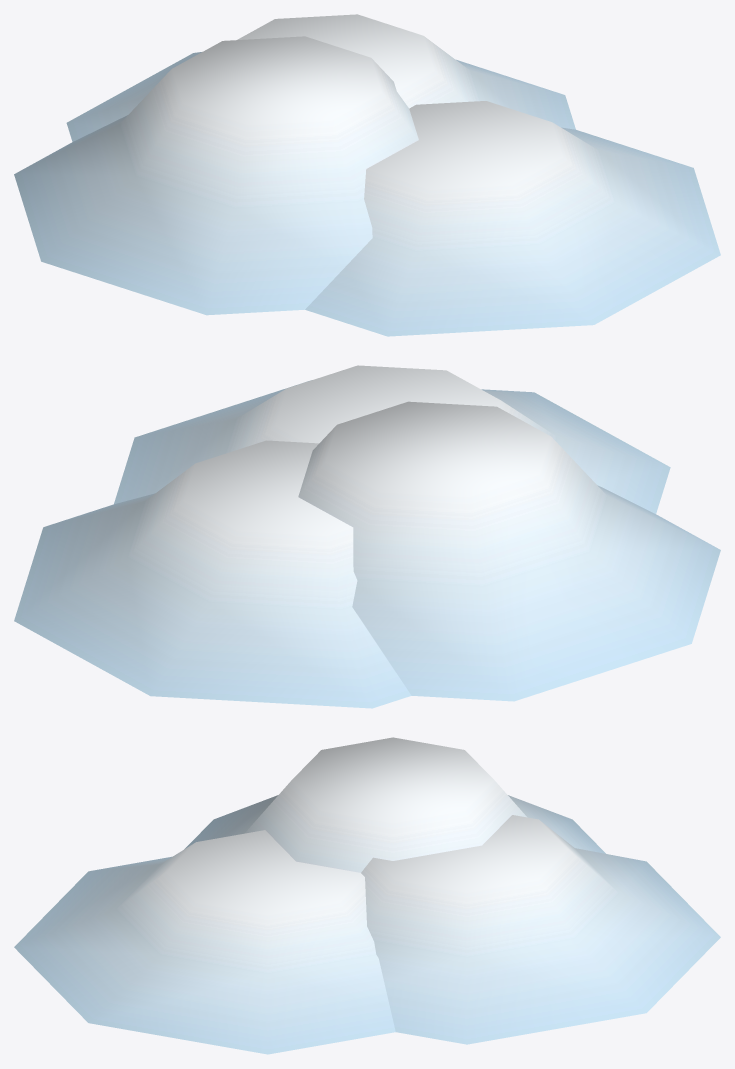
File: holiday-snow-pile.glb
The picture shows the model from 3 angles, top to bottom: view 1: azimuth 30°, elevation 25°; view 2: azimuth 150°, elevation 25°; view 3: azimuth 270°, elevation 25°; orthographic projection. The views are drawn at different scales.
Visible parts, largest first — view 1: snow-pile; view 2: snow-pile; view 3: snow-pile.
Boxes of the visible parts, x1,y1,x2,y2 form: snow-pile: (14, 14, 720, 336); snow-pile: (14, 365, 720, 708); snow-pile: (14, 737, 720, 1054).
Bounding box in the file's own units: 0.9934 × 0.2 × 1.11.
Materials: 1 (1 with a texture image).
